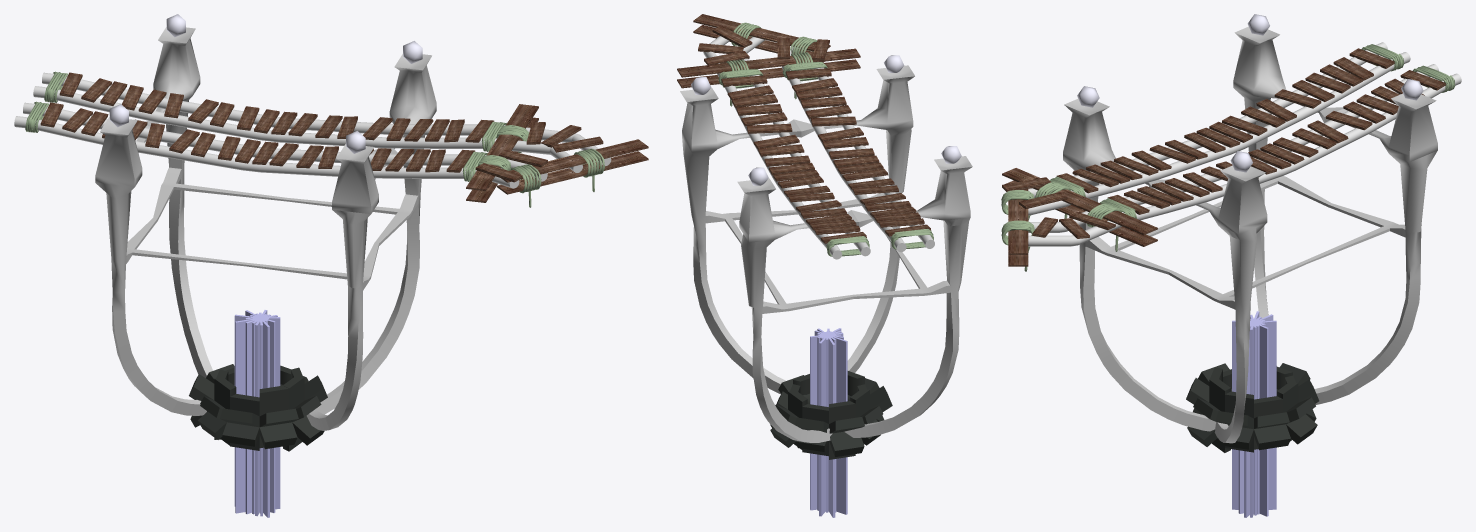
File: 2_bridge_left.fbx
The picture shows the model from 3 angles, left to right: view 1: azimuth 30°, elevation 25°; view 2: azimuth 150°, elevation 25°; view 3: azimuth 270°, elevation 25°; orthographic projection. The views are drawn at different scales.
Parts seen in each view (by area): view 1: 2_left_base, gravityring, 2_left_LaR, 2_left_LaL, 2_left_verschlag, 2_left_LaR_c, 2_left_verschlag02, 2_left_LaL_c, 2_left_verschlag_ropes, 2_left_LaR_ropes, 2_left_LaL_ropes; view 2: 2_left_base, gravityring, 2_left_LaR, 2_left_LaL, 2_left_verschlag02, 2_left_LaR_c, 2_left_verschlag, 2_left_LaL_ropes, 2_left_LaR_ropes, 2_left_LaL_c, 2_left_verschlag_ropes, 2_left_ropevertical; view 3: 2_left_base, gravityring, 2_left_LaL, 2_left_LaR, 2_left_LaR_c, 2_left_verschlag02, 2_left_verschlag, 2_left_LaL_c, 2_left_verschlag_ropes, 2_left_LaR_ropes, 2_left_LaL_ropes, 2_left_ropevertical.
Part boxes in pixels (x1=…): 2_left_base: x1=95, y1=14, x2=436, y2=430; gravityring: x1=189, y1=310, x2=327, y2=517; 2_left_LaR: x1=33, y1=72, x2=504, y2=148; 2_left_LaL: x1=14, y1=102, x2=486, y2=178; 2_left_verschlag: x1=497, y1=139, x2=648, y2=194; 2_left_LaR_c: x1=491, y1=122, x2=611, y2=172; 2_left_verschlag02: x1=466, y1=104, x2=538, y2=202; 2_left_LaL_c: x1=475, y1=149, x2=547, y2=188; 2_left_verschlag_ropes: x1=510, y1=148, x2=604, y2=207; 2_left_LaR_ropes: x1=44, y1=71, x2=506, y2=151; 2_left_LaL_ropes: x1=25, y1=101, x2=487, y2=181; 2_left_base: x1=680, y1=55, x2=972, y2=442; gravityring: x1=770, y1=328, x2=892, y2=517; 2_left_LaR: x1=717, y1=73, x2=870, y2=259; 2_left_LaL: x1=782, y1=66, x2=934, y2=252; 2_left_verschlag02: x1=677, y1=48, x2=860, y2=88; 2_left_LaR_c: x1=698, y1=25, x2=764, y2=74; 2_left_verschlag: x1=693, y1=14, x2=830, y2=62; 2_left_LaL_ropes: x1=783, y1=62, x2=933, y2=249; 2_left_LaR_ropes: x1=718, y1=69, x2=869, y2=256; 2_left_LaL_c: x1=777, y1=38, x2=829, y2=60; 2_left_verschlag_ropes: x1=731, y1=22, x2=816, y2=53; 2_left_ropevertical: x1=726, y1=52, x2=812, y2=106; 2_left_base: x1=1063, y1=14, x2=1437, y2=443; gravityring: x1=1186, y1=311, x2=1319, y2=517; 2_left_LaL: x1=1056, y1=42, x2=1410, y2=205; 2_left_LaR: x1=1107, y1=64, x2=1461, y2=227; 2_left_LaR_c: x1=1028, y1=211, x2=1120, y2=246; 2_left_verschlag02: x1=1002, y1=168, x2=1157, y2=246; 2_left_verschlag: x1=1008, y1=189, x2=1028, y2=266; 2_left_LaL_c: x1=1002, y1=177, x2=1069, y2=215; 2_left_verschlag_ropes: x1=1001, y1=190, x2=1034, y2=271; 2_left_LaR_ropes: x1=1099, y1=65, x2=1455, y2=218; 2_left_LaL_ropes: x1=1050, y1=44, x2=1403, y2=196; 2_left_ropevertical: x1=1035, y1=182, x2=1121, y2=251.
Bounding box in the file's own units: 126 × 117 × 115.
Materials: 7 (1 with a texture image).
